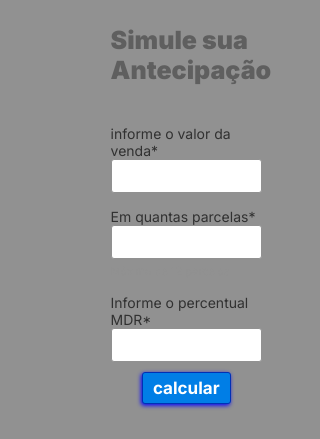
Test: Form component › should show error message when submit form with empty fields
Click the button "calcular" at (186, 388), box [142,372,230,404]
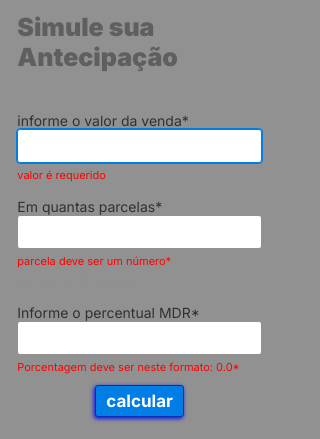
Expected: the text "valor é requerido" is shown, [17,168,106,182]
Expected: the text "parcela deve ser um número*" is shown, [17,254,171,268]
Expected: the text "Porcentagem deve ser neste formato: 0.0*" is shown, [17,360,240,374]
